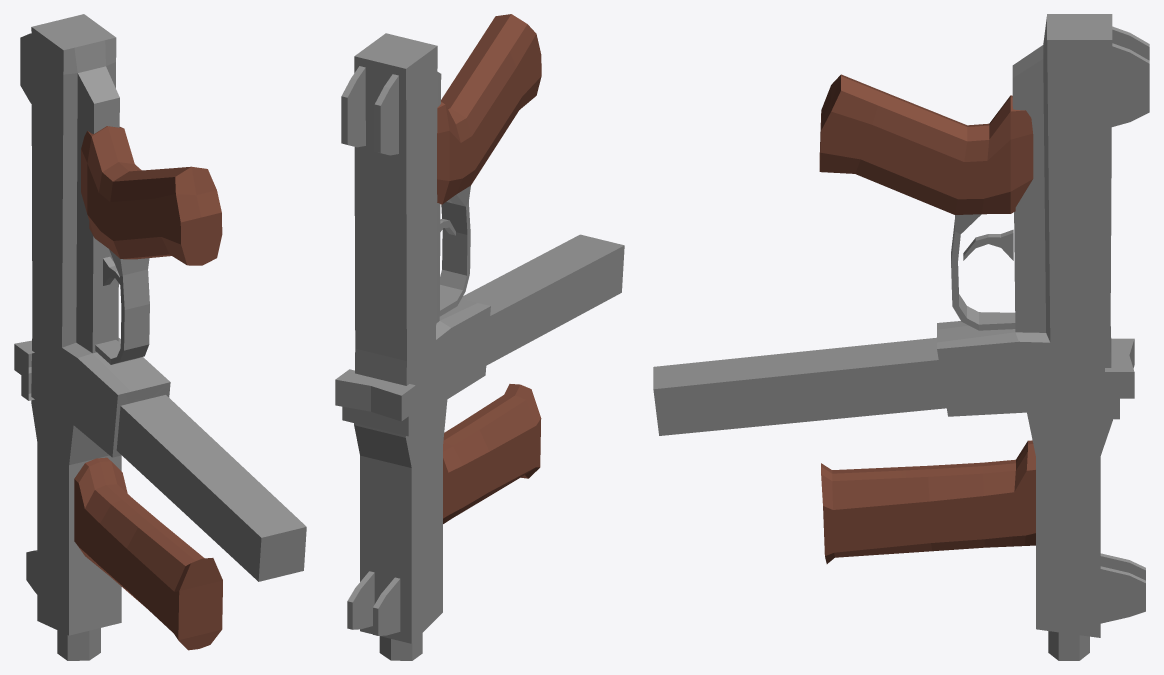
Rendered from smg01.fbx.
3 views of the same model, side by side, from view 1: azimuth 30°, elevation 25°; view 2: azimuth 150°, elevation 25°; view 3: azimuth 270°, elevation 25° (orthographic). The views are drawn at different scales.
Visible parts, largest first — view 1: Smg; view 2: Smg; view 3: Smg.
Boxes of the visible parts, box(x1,y1,x2,y2) form: Smg: box(14, 14, 306, 660); Smg: box(335, 14, 624, 660); Smg: box(653, 14, 1149, 660).
Bounding box in the file's own units: 114 × 1000 × 719.
